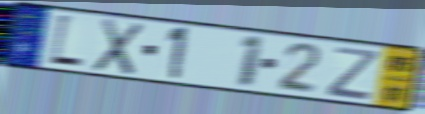1: (164, 24, 192, 82), (238, 34, 264, 91)
2: (277, 41, 323, 94)
L: (46, 11, 86, 71)
X: (90, 16, 147, 78)
Z: (323, 44, 381, 102)
